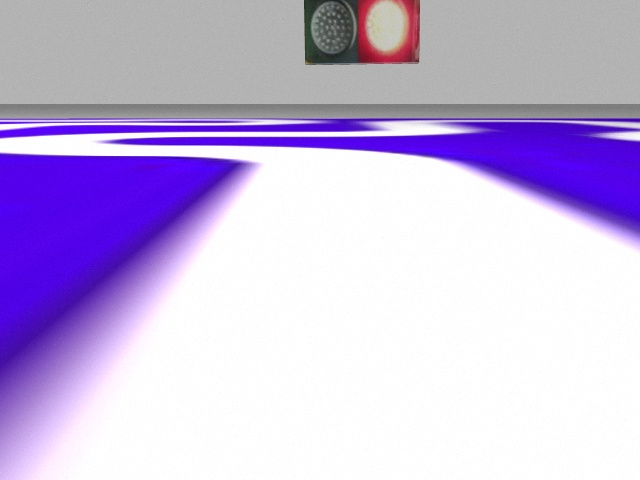red: (358, 3, 421, 65)
